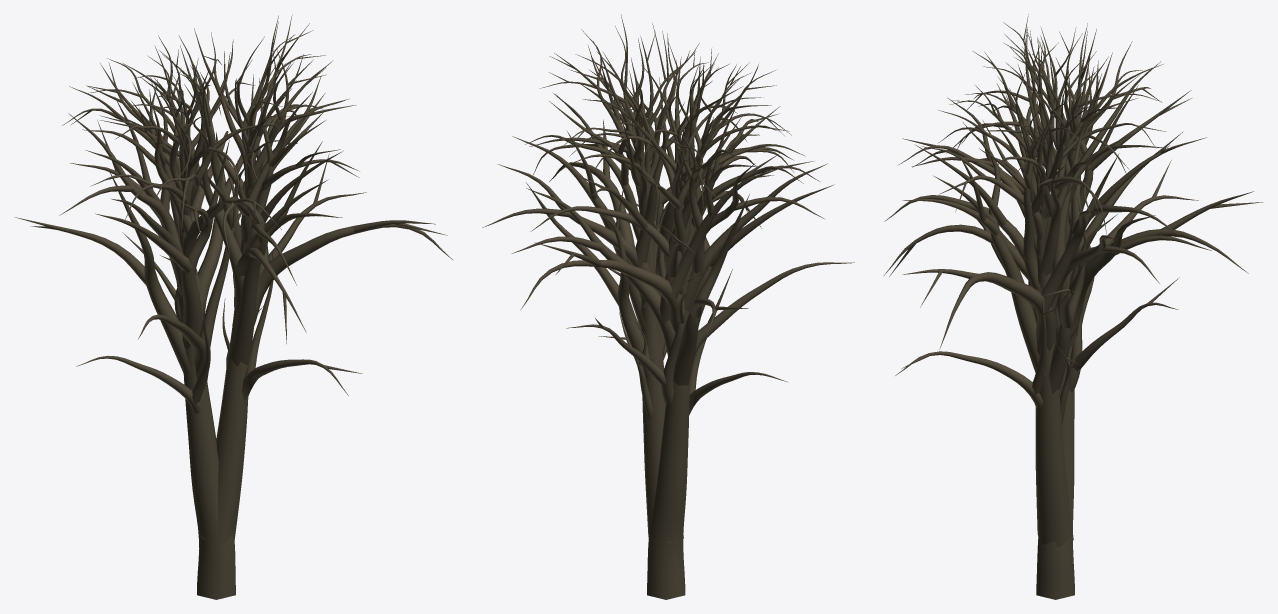
Rendered from PohonRuncing.fbx.
3 views of the same model, side by side, from view 1: azimuth 30°, elevation 25°; view 2: azimuth 150°, elevation 25°; view 3: azimuth 270°, elevation 25° (orthographic).
Parts seen in each view (by area): view 1: tree; view 2: tree; view 3: tree.
Boxes of the visible parts, box(x1,y1,x2,y2) form: tree: box(14, 14, 453, 599); tree: box(482, 15, 854, 599); tree: box(884, 14, 1263, 599).
Size of the model in its own units: 524 by 842 by 517.
